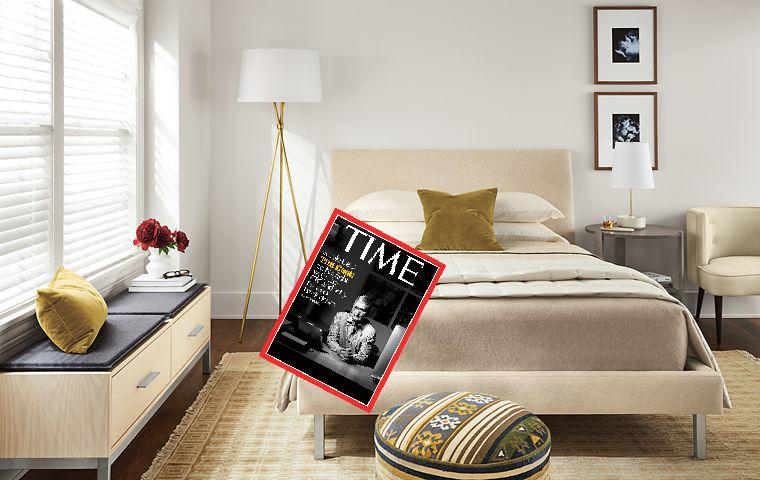times: (258, 207, 450, 418)
